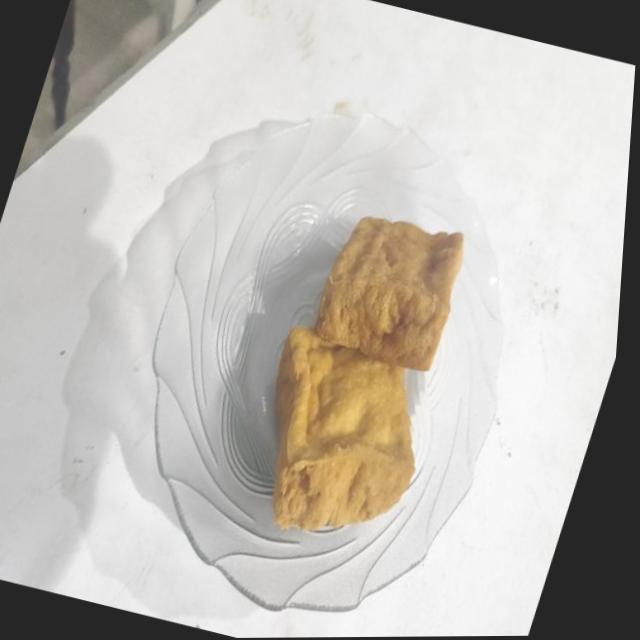tahu_goreng: (272, 327, 414, 530), (314, 217, 463, 371)
